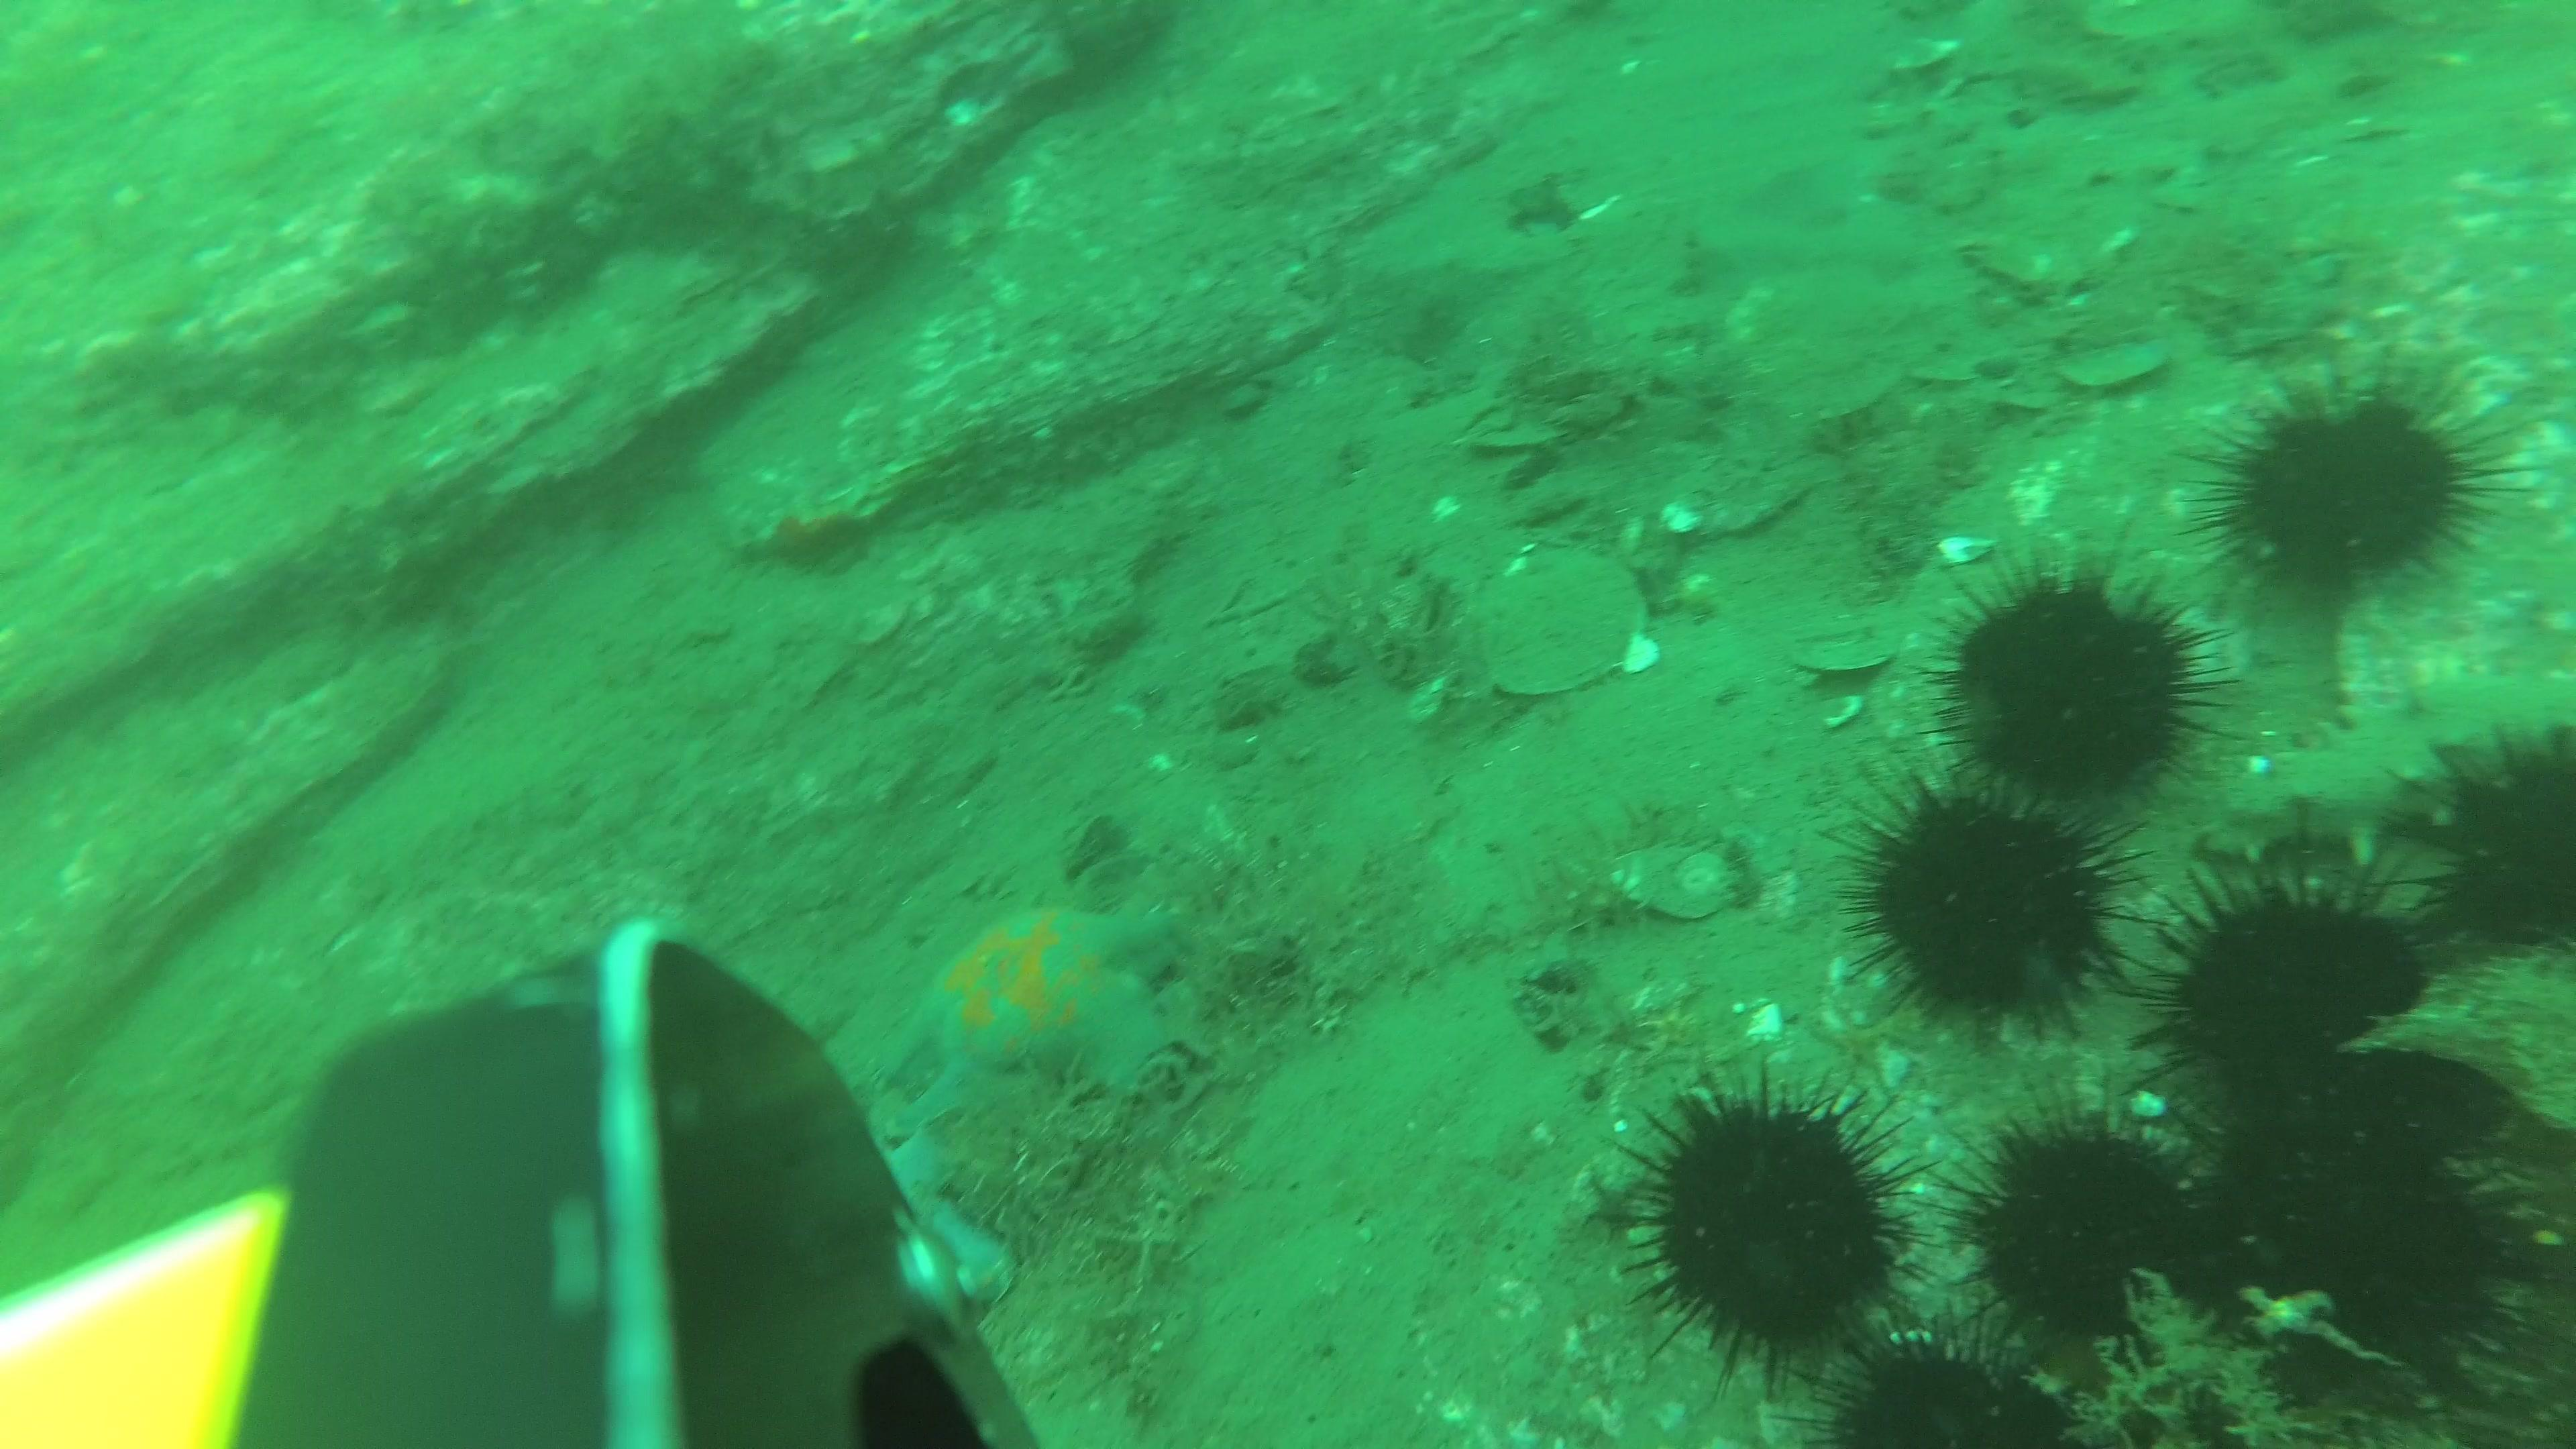echinus: (1608, 1065, 1934, 1405), (2143, 830, 2445, 1169), (2220, 1115, 2541, 1417), (2194, 350, 2528, 614), (1824, 768, 2127, 1053), (1941, 1081, 2213, 1380), (1934, 557, 2224, 830), (2419, 725, 2576, 1007), (1790, 1309, 2074, 1449)
scallop: (1476, 556, 1654, 701), (1612, 842, 1743, 922), (1794, 633, 1902, 676)
starfish: (777, 1106, 1016, 1364), (906, 904, 1177, 1123)
